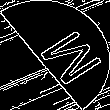M_SW: (16, 22, 94, 88)
